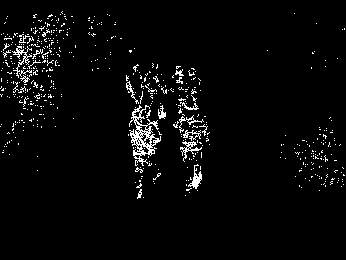person: (127, 105, 160, 202), (179, 101, 208, 197), (125, 61, 145, 105), (191, 64, 208, 101), (151, 60, 163, 107), (171, 62, 184, 104)
